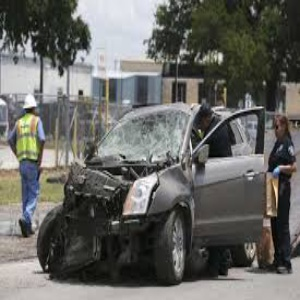bumper: (61, 217, 151, 282)
front_windshield_glass: (97, 108, 183, 166)
